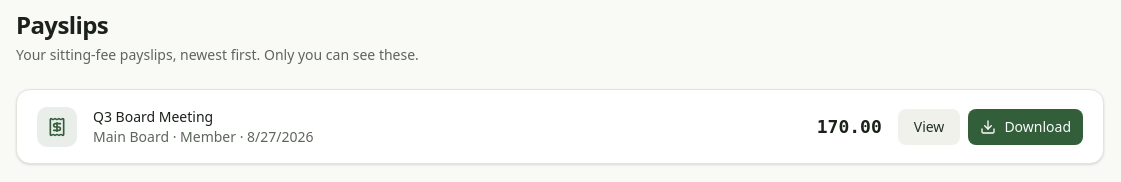
Test: MemberPayslips › downloading a payslip marks it Viewed
Check: the text "Q3 Board Meeting" is shown, box [93,107,213,126]
Step 1. Click the button "Download" → (1026, 126), box [968,108,1083,144]
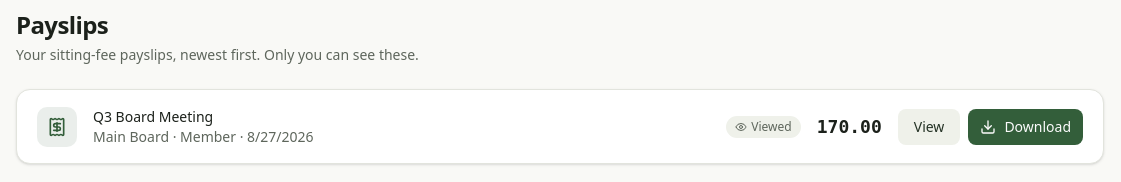
Check: the text "Viewed" is shown, box [726,116,801,138]
